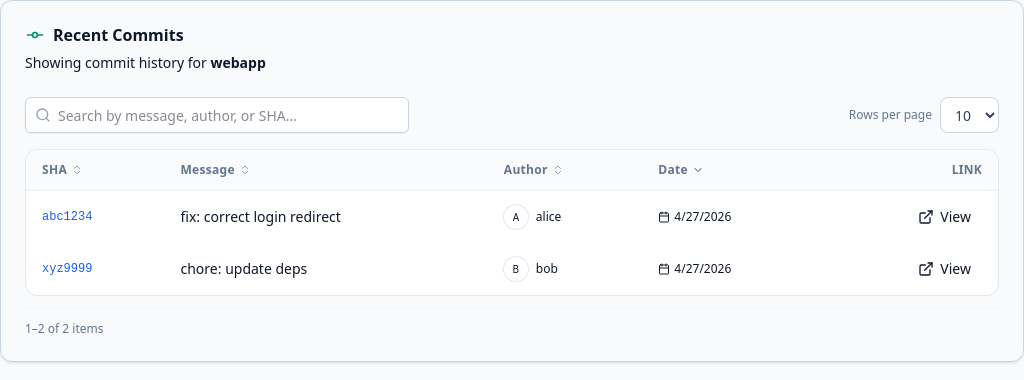
Test: GitOpsCommits › filters commits when user types in the search box
Expected: the text "fix: correct login redirect" is shown, [180,207,341,226]
In the field with placeholder "Search by message, author, or SHA...": (217, 115) [25,97,409,133], type "chore"
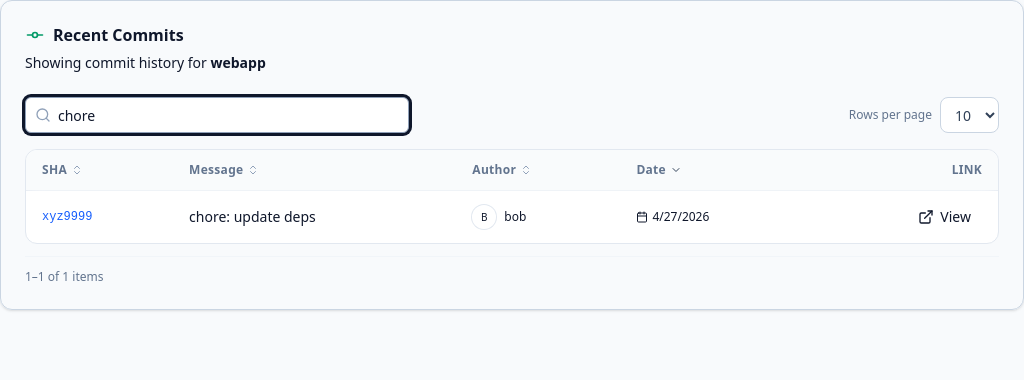
Expected: the text "chore: update deps" is shown, [189,207,316,226]
Result: the text "fix: correct login redirect" is gone
